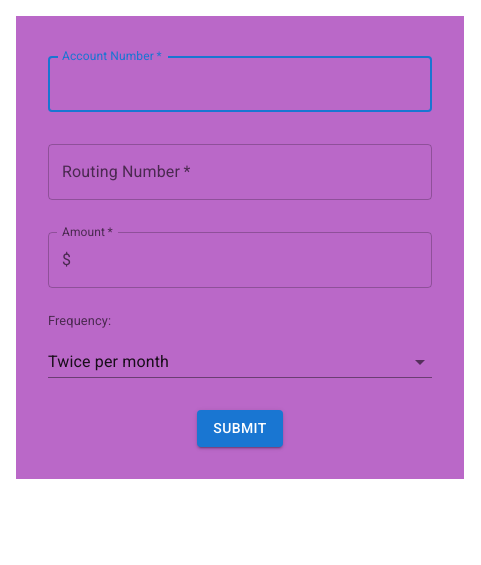
DirectDepositEnrollmentForm › shows error message when account number is invalid
Type "12345" into the field labelled "Account Number" at [240, 84], box x1=48 y1=56 x2=432 y2=112
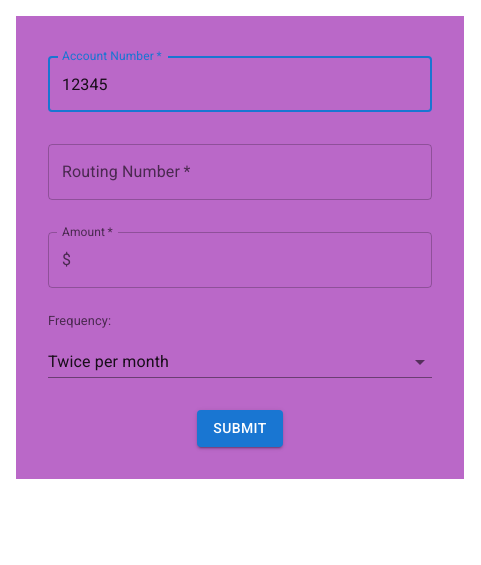
Click the button "Submit" at [240, 429], box x1=197 y1=410 x2=283 y2=447
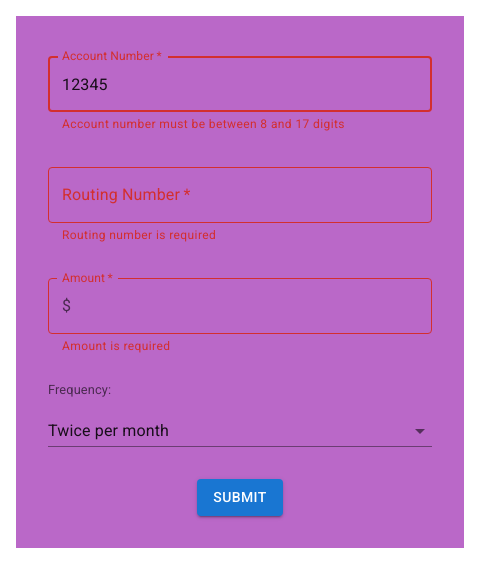
Now the text "Account number must be between 8 and 17 digits" is shown, box x1=62 y1=117 x2=345 y2=131
